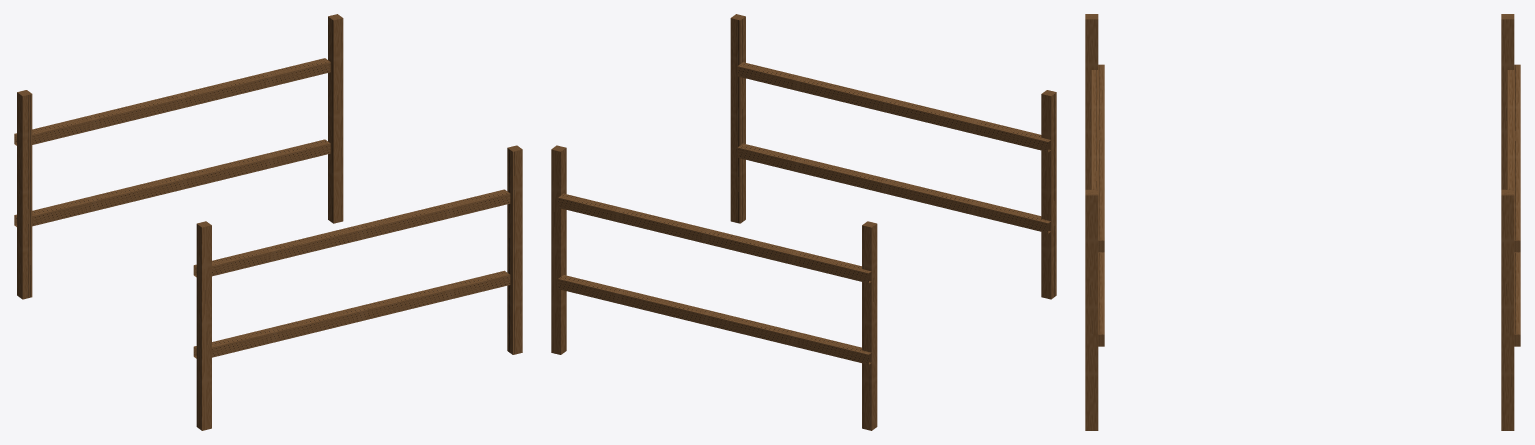
Rendered from scaffold.glb.
The picture shows the model from 3 angles, left to right: view 1: azimuth 30°, elevation 25°; view 2: azimuth 150°, elevation 25°; view 3: azimuth 270°, elevation 25°; orthographic projection. The views are drawn at different scales.
Size of the model in its own units: 0.825 by 0.5 by 0.8375.
Materials: 1 (1 with a texture image).
